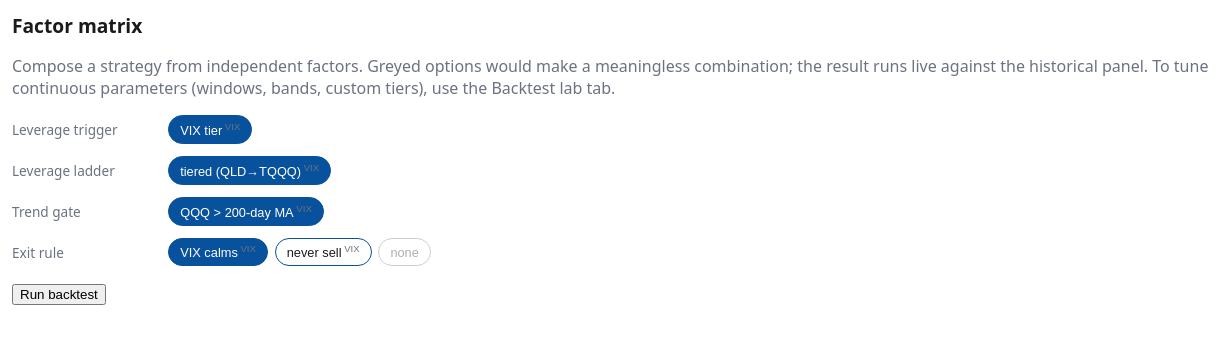
Test: greys out the invalid exit option and runs the selected valid cell
Expected: the button "none" is disabled, top-left (378, 238), bottom-right (431, 266)
Click the button "Run backtest" at point(59, 295), box top-left (12, 284), bottom-right (106, 305)
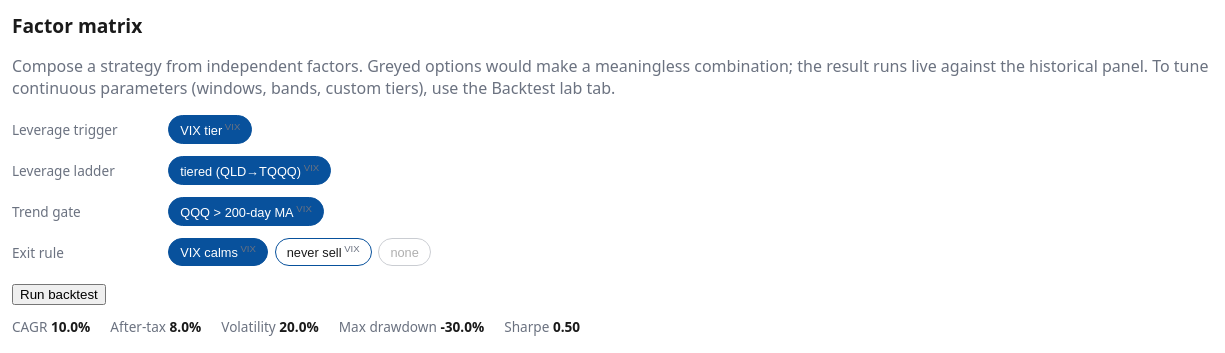
Expected: the element with test id "result" is shown, top-left (12, 317), bottom-right (580, 336)
